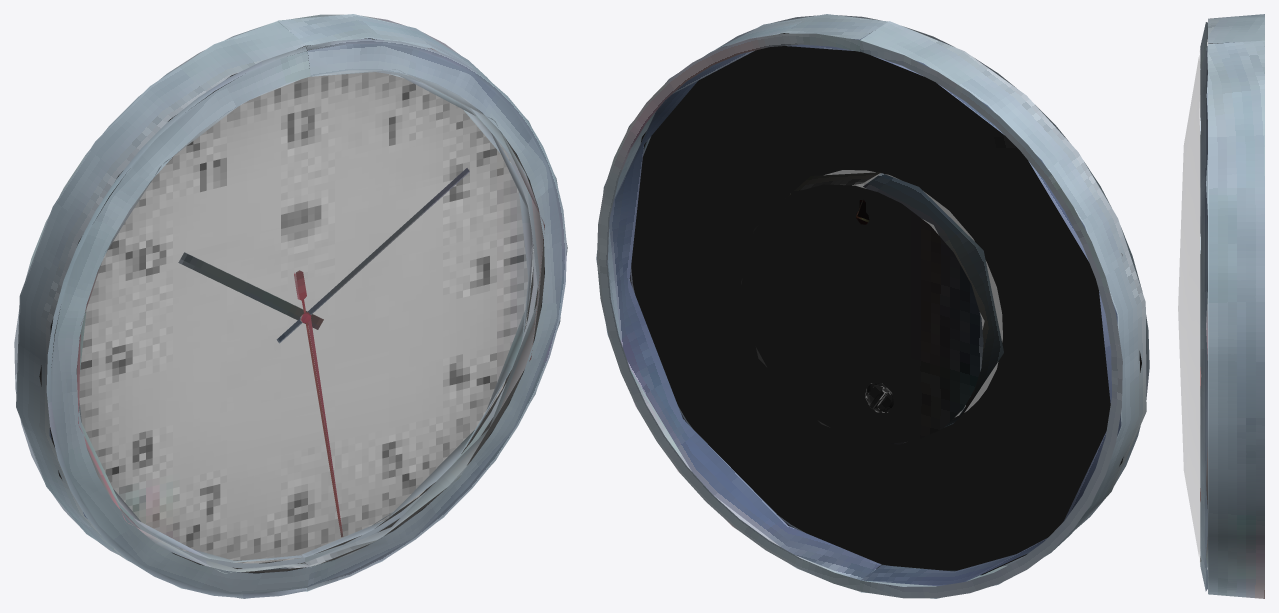
Rendered from wall_clock.glb.
3 views of the same model, side by side, from view 1: azimuth 30°, elevation 25°; view 2: azimuth 150°, elevation 25°; view 3: azimuth 270°, elevation 25° (orthographic). The views are drawn at different scales.
Parts seen in each view (by area): view 1: wall_clock_minute_hand; view 2: wall_clock_minute_hand; view 3: wall_clock_minute_hand.
Boxes of the visible parts, x1,y1,x2,y2 form: wall_clock_minute_hand: (14, 14, 567, 598); wall_clock_minute_hand: (596, 14, 1149, 598); wall_clock_minute_hand: (1178, 14, 1264, 598).
Size of the model in its own units: 0.3208 by 0.3217 by 0.0476.
Materials: 2 (1 with a texture image).
